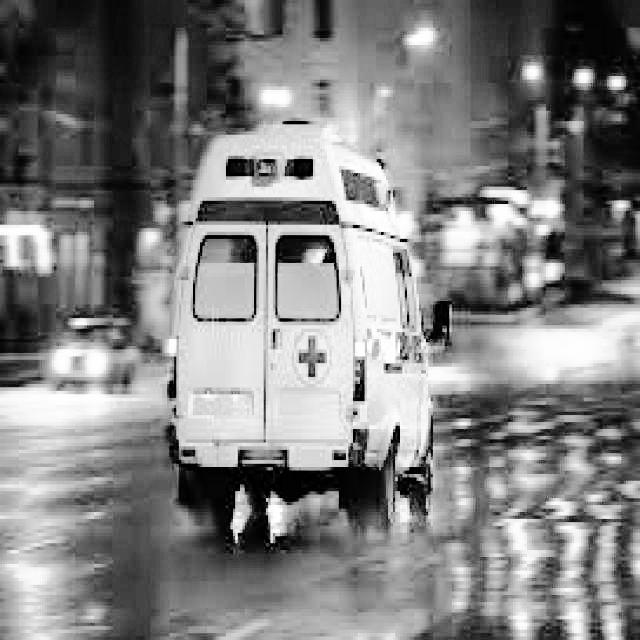LCV: (172, 129, 355, 460)
